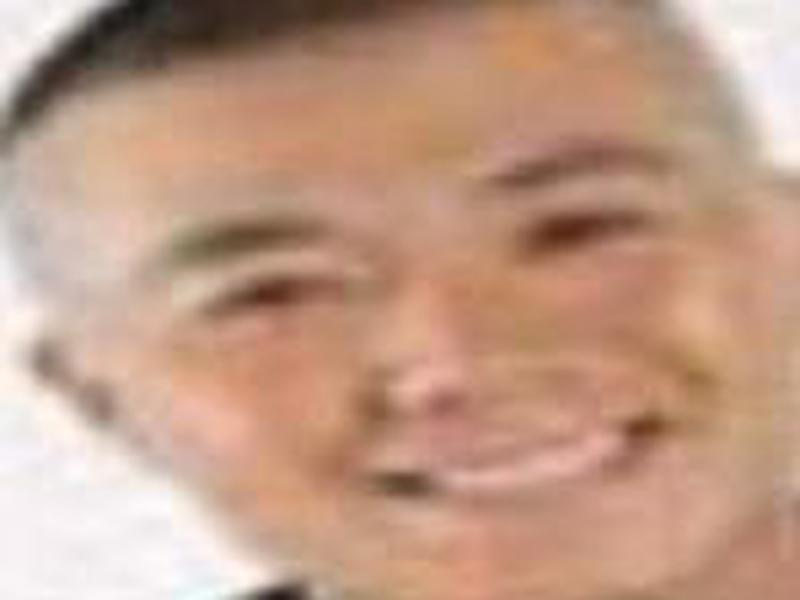without_mask: (23, 42, 782, 593)
